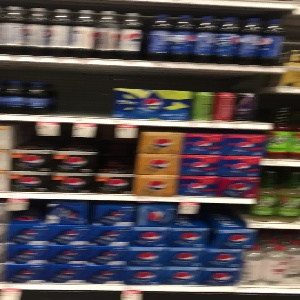void: (50, 61, 112, 117)
